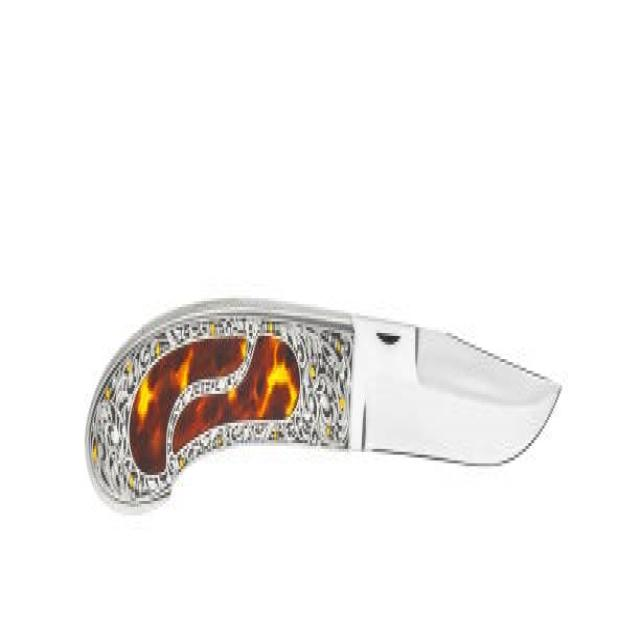knife: (80, 279, 564, 541)
